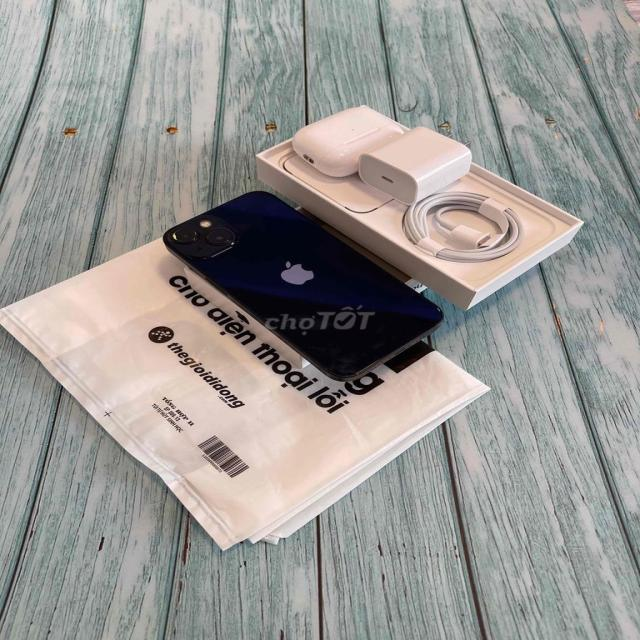gen_12_13: (160, 190, 444, 386)
